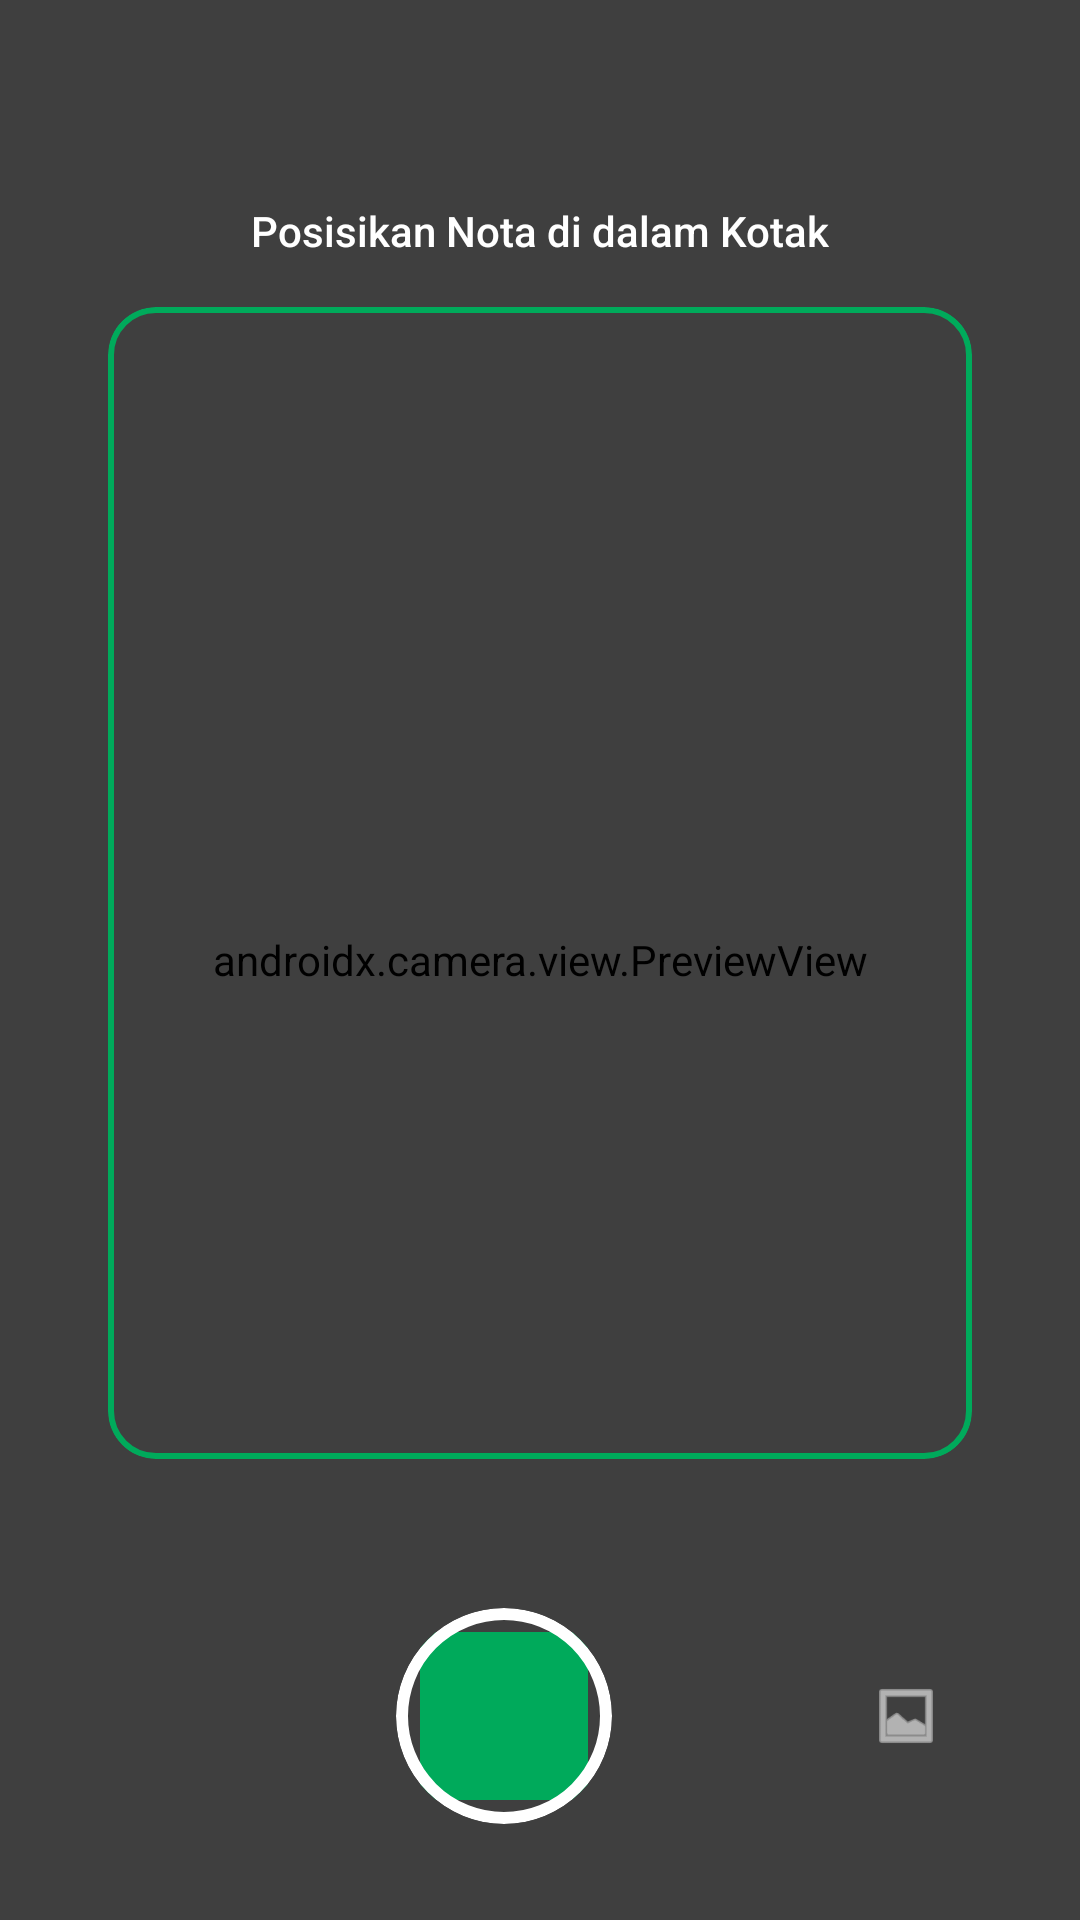

Icons on this 1080w x 1920h Android screen, each with its box as (x1, y1, x2, y2):
gallery: (879, 1689, 933, 1743)
